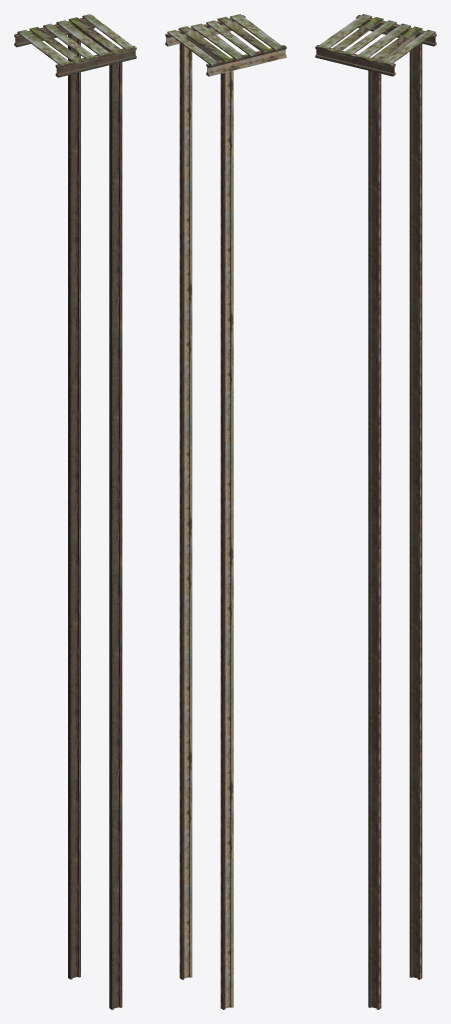
Rendered from ramp--.fbx.
The picture shows the model from 3 angles, left to right: view 1: azimuth 30°, elevation 25°; view 2: azimuth 210°, elevation 25°; view 3: azimuth 330°, elevation 25°; orthographic projection.
Visible parts, largest first — view 1: grder, ramp_027__1_; view 2: grder, ramp_027__1_; view 3: grder, ramp_027__1_.
Boxes of the visible parts, left/top/right/bottom form: grder: left=68, top=34, right=122, bottom=1009; ramp_027__1_: left=14, top=14, right=136, bottom=77; grder: left=179, top=43, right=233, bottom=1009; ramp_027__1_: left=165, top=14, right=286, bottom=76; grder: left=368, top=43, right=422, bottom=1009; ramp_027__1_: left=315, top=14, right=436, bottom=76.
Size of the model in its own units: 200 by 2330 by 204.
